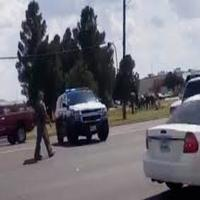person: (30, 87, 55, 127)
